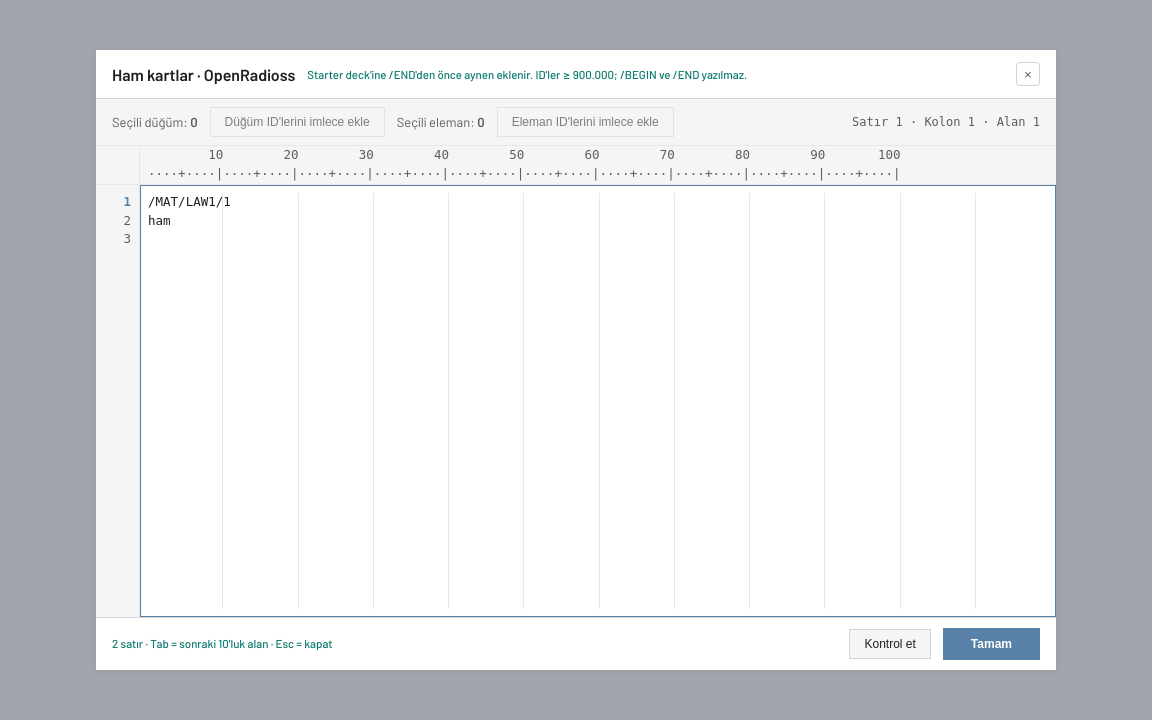
Test: CrashRawCardsEditor · Kontrol et (1.22e) › kurulum yoksa istek atılmaz, neden yazılır
Click the button "Kontrol et" at {"x": 890, "y": 644}, box top-left (850, 629), bottom-right (931, 659)
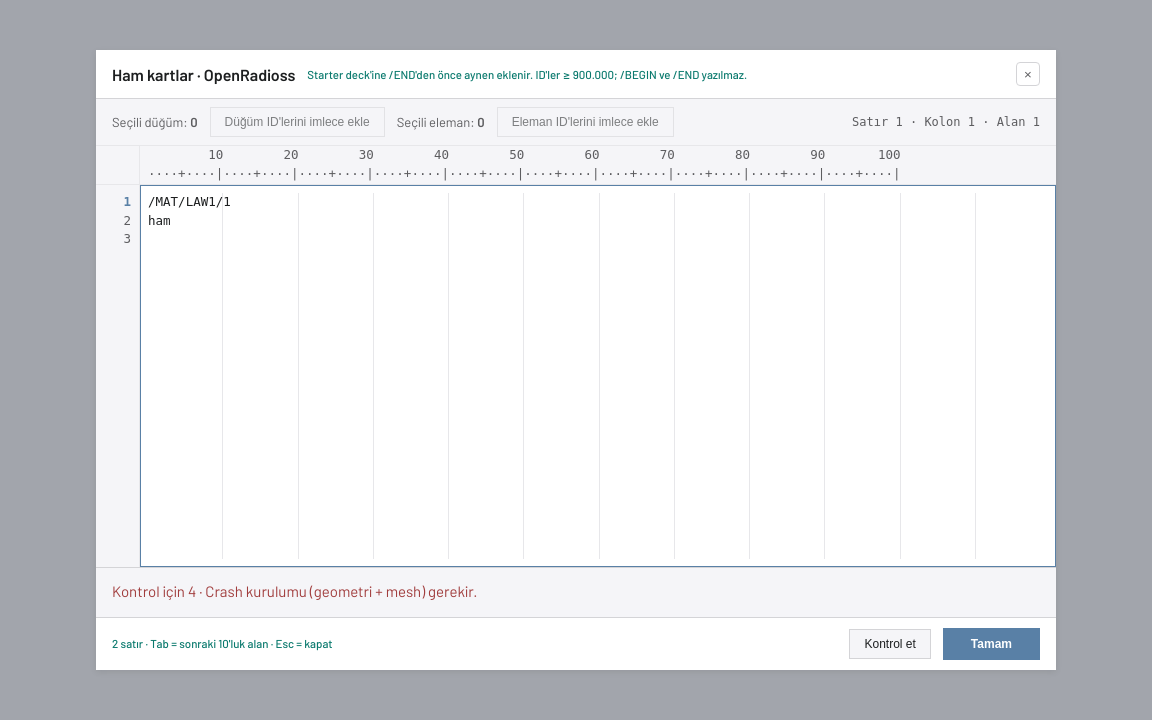
Expected: the element with test id "raw-cards-result" shows "4 · Crash kurulumu", top-left (112, 582), bottom-right (477, 600)
